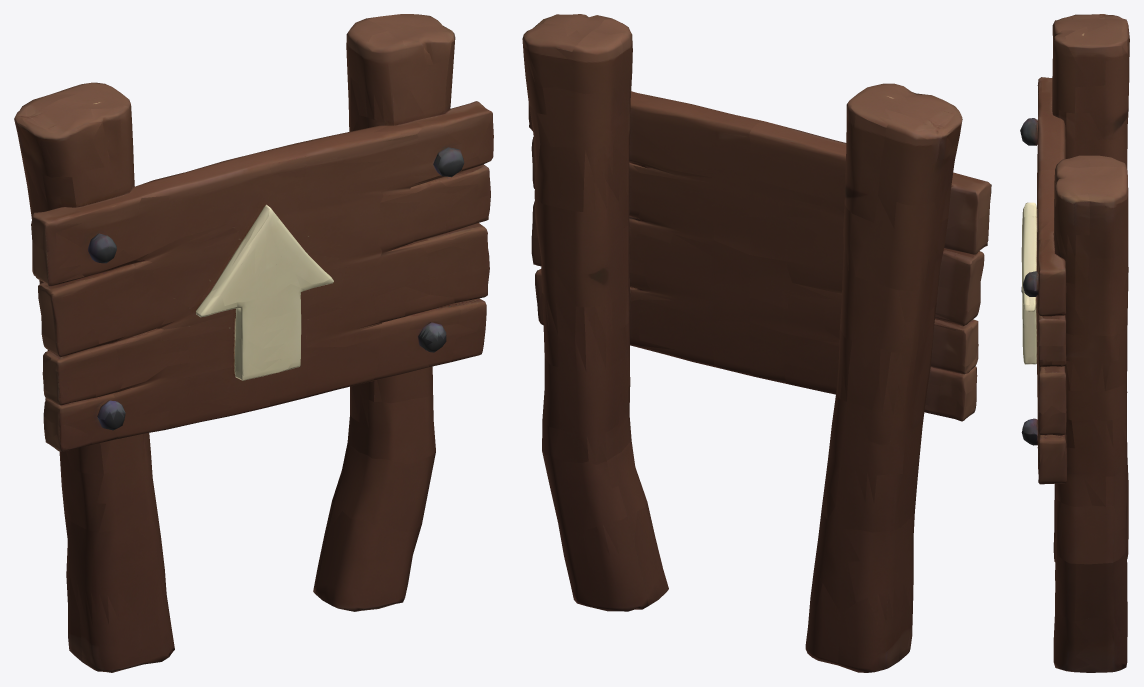
File: cartel_mar_arriba.glb
3 views of the same model, side by side, from view 1: azimuth 30°, elevation 25°; view 2: azimuth 150°, elevation 25°; view 3: azimuth 270°, elevation 25° (orthographic). The views are drawn at different scales.
Bounding box in the file's own units: 0.8418 × 1 × 0.1968.
1 material, 1 textured.
